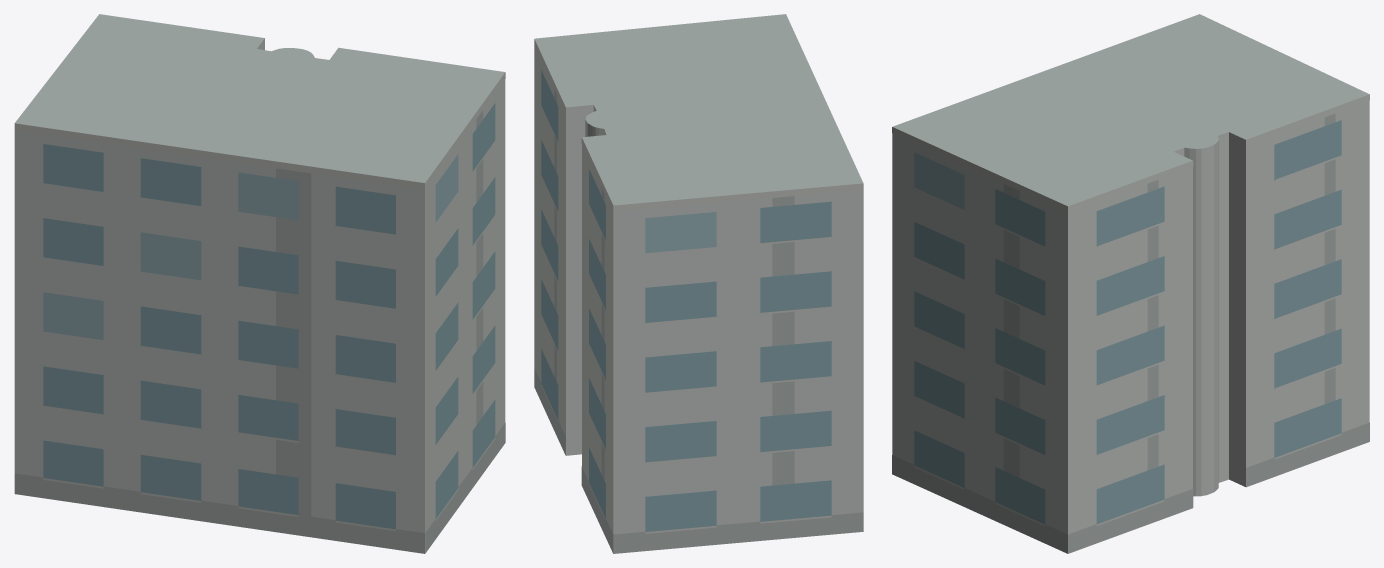
Rendered from survey-upis-32947227.glb.
The picture shows the model from 3 angles, left to right: view 1: azimuth 30°, elevation 25°; view 2: azimuth 150°, elevation 25°; view 3: azimuth 270°, elevation 25°; orthographic projection. The views are drawn at different scales.
Visible parts, largest first — view 1: survey-upis-32947227.tmp; view 2: survey-upis-32947227.tmp; view 3: survey-upis-32947227.tmp.
Boxes of the visible parts, left/top/right/bottom form: survey-upis-32947227.tmp: left=14, top=14, right=505, bottom=553; survey-upis-32947227.tmp: left=534, top=14, right=863, bottom=553; survey-upis-32947227.tmp: left=892, top=14, right=1369, bottom=553.
Bounding box in the file's own units: 15.56 × 13.1 × 16.32.
